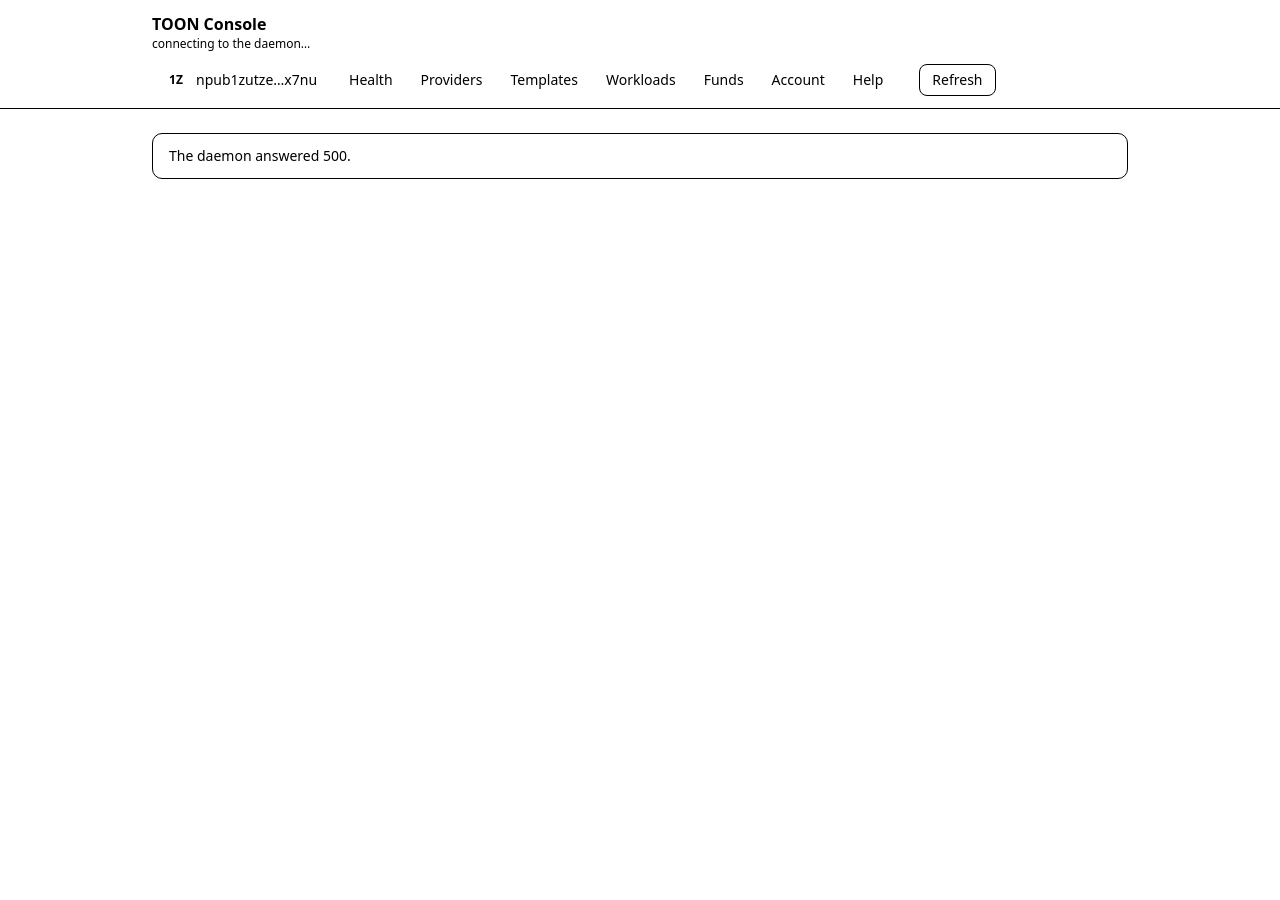
Test: the Chain Seed card › warns before it offers anything, and only once
Click the button "Account". click: (798, 80)
box: x1=760 y1=64 x2=837 y2=96
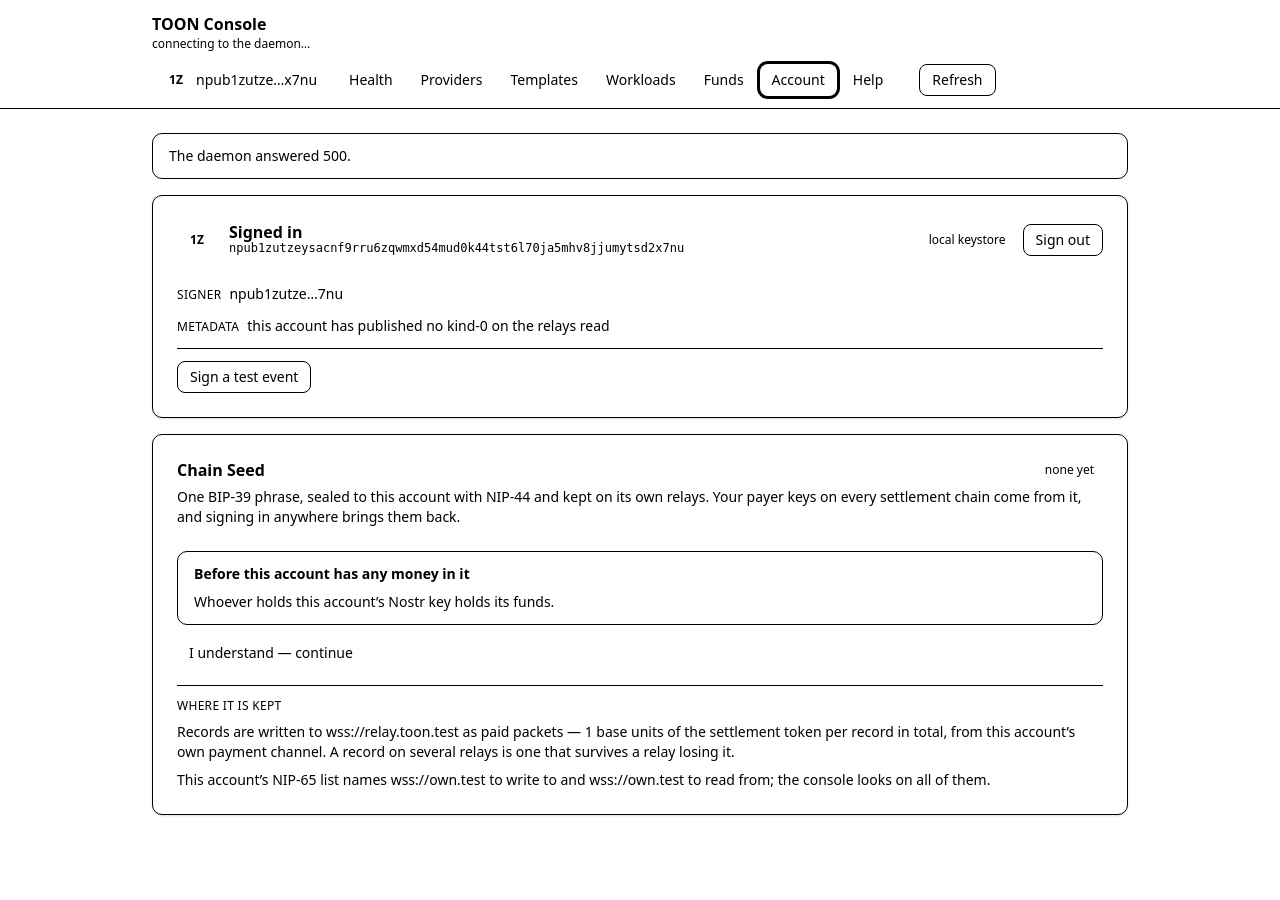
Expected: the button "Mint a Chain Seed" is not shown
Now the text "Whoever holds this account’s Nostr key holds its funds." is shown, box x1=194 y1=592 x2=554 y2=611
Click the button "I understand — continue". click: (271, 653)
box: x1=177 y1=637 x2=365 y2=669
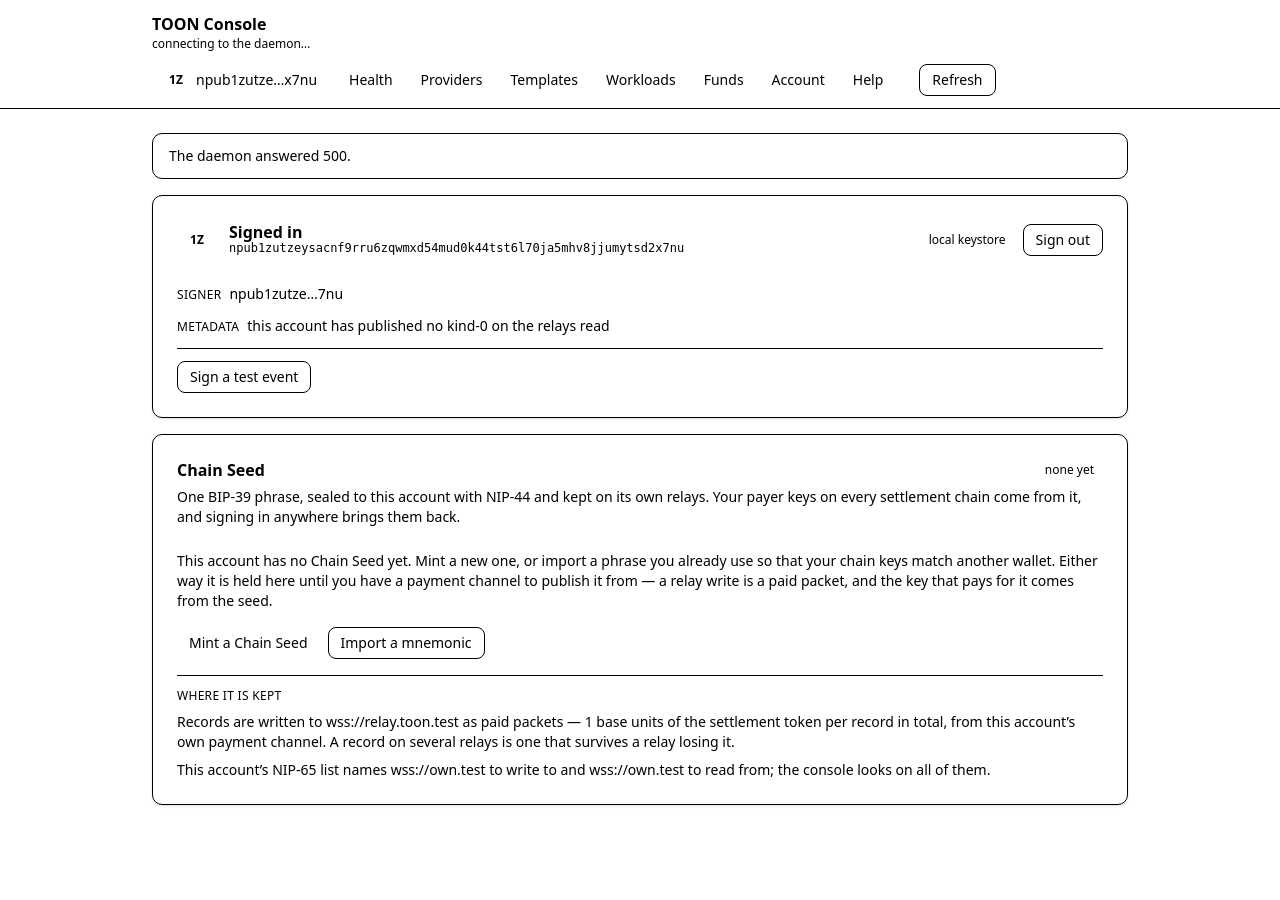
Now the button "Mint a Chain Seed" is shown, box x1=177 y1=627 x2=320 y2=659
Now the text "Whoever holds this account’s Nostr key holds its funds." is gone
